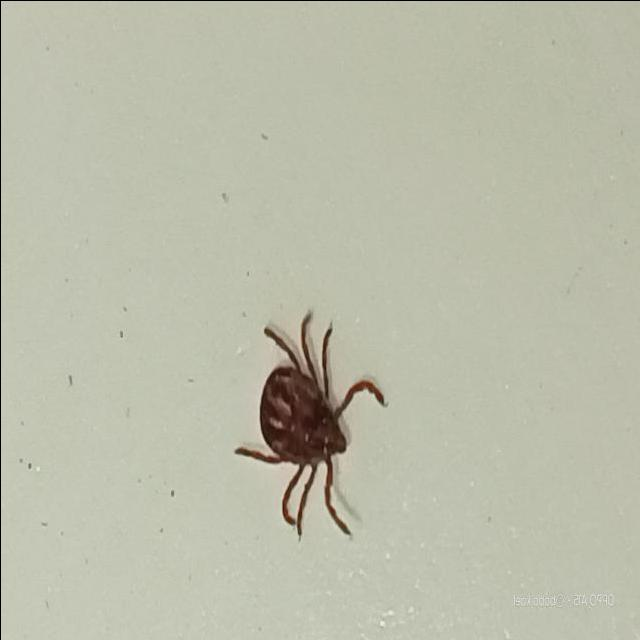Rhipicephalus Sanguineus-M: (232, 311, 386, 539)
